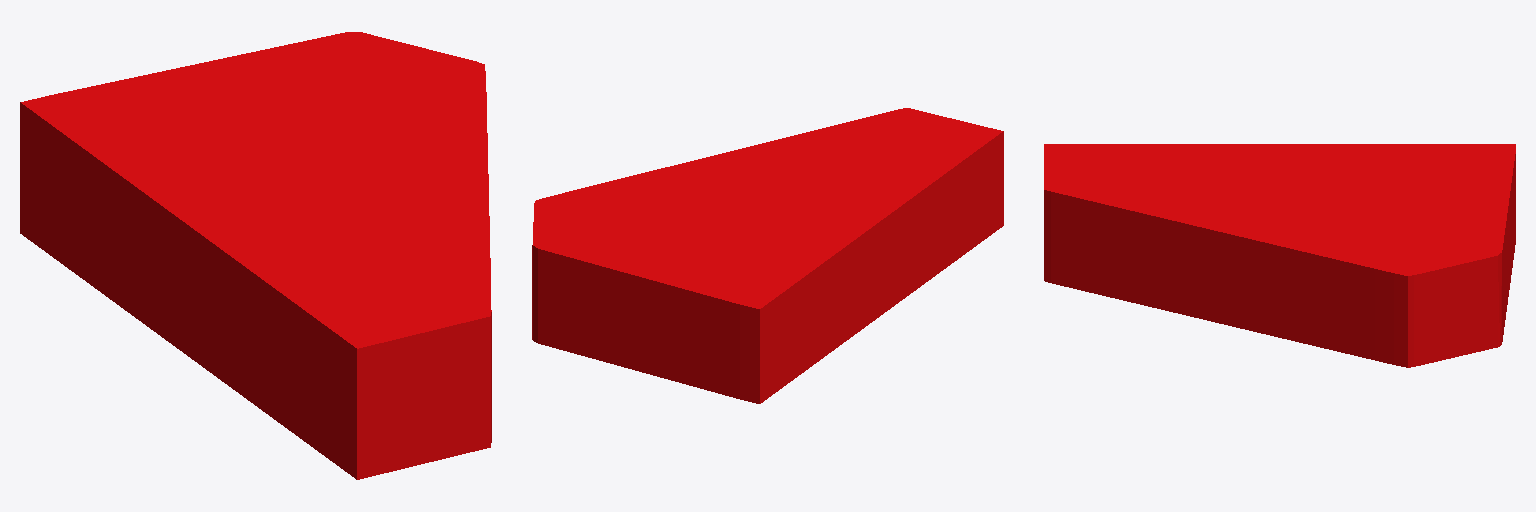
The robot description file, URDF, robot "convex_mesh":
<?xml version="1.0"?>
    <robot name="convex_mesh">
    <link name="base_link">
        <!-- Visual Representation -->
        <visual>
            <geometry>
                <mesh filename="polygon_1.obj" scale="1 1 1"/>
            </geometry>
            <material name="custom_color">
                <color rgba="0.925596638292661 0.07103605819788694 0.08712929970154071 1.0"/>
            </material>
        </visual>

        <!-- Collision Geometry -->
        <collision>
            <geometry>
                <mesh filename="polygon_1.obj" scale="1 1 1"/>
            </geometry>
        </collision>

        <!-- Inertial Properties -->
        <inertial>
            <mass value="1.0"/>
            <origin xyz="-0.06023853109227259 -0.01127151576141497 0.015"/>
            <inertia ixx="0.01" ixy="0.0" ixz="0.0"
                    iyy="0.01" iyz="0.0"
                    izz="0.01"/>
        </inertial>
    </link>
    </robot>

--- Facts derived from the render (not from the file) ---
Views: 3 orthographic renders of the robot side by side, from view 1: azimuth 30°, elevation 25°; view 2: azimuth 150°, elevation 25°; view 3: azimuth 270°, elevation 25°.
Model convex_mesh with 1 links and 0 joints (none), rooted at base_link, posed all joints at 0.
Links seen in each view (by area): view 1: base_link; view 2: base_link; view 3: base_link.
Link boxes in pixels (left/top/right/bottom): base_link: left=20, top=32, right=491, bottom=479; base_link: left=532, top=108, right=1003, bottom=403; base_link: left=1044, top=144, right=1515, bottom=367.
Bounding box of the posed robot: 0.0952 × 0.1435 × 0.0308 m (x, y, z).
1 mesh visuals loaded from 1 distinct referenced files (1 OBJ).